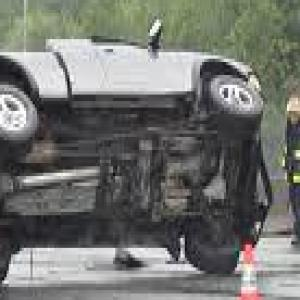fatal: (0, 13, 272, 287)
